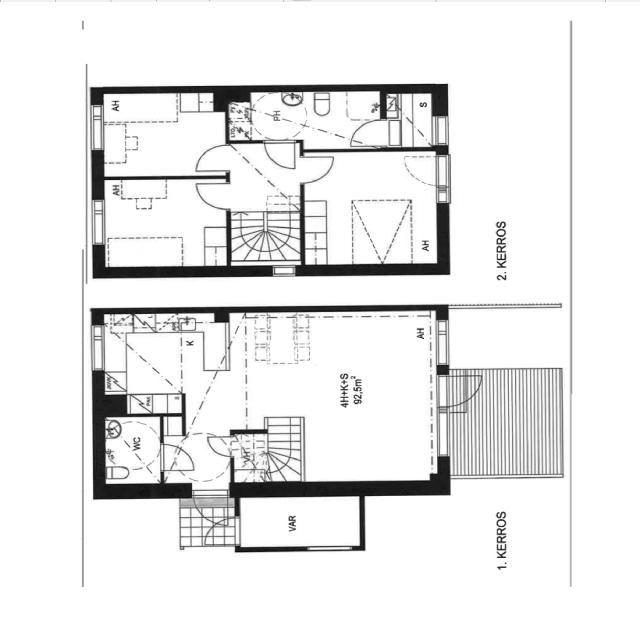door: (104, 175, 232, 267), (190, 144, 232, 210), (433, 370, 484, 410), (188, 141, 234, 174), (156, 440, 198, 476), (191, 180, 233, 212), (403, 152, 441, 187), (297, 152, 338, 184), (260, 139, 300, 170), (350, 117, 388, 146), (202, 431, 235, 460)
window: (428, 384, 452, 460), (84, 100, 108, 158), (88, 321, 108, 376), (87, 196, 107, 249), (431, 318, 450, 369), (298, 541, 358, 554), (432, 112, 448, 146), (264, 264, 301, 278)
zone: (228, 308, 441, 487), (302, 149, 436, 267), (99, 315, 229, 415), (99, 178, 228, 272), (98, 91, 225, 178), (224, 90, 385, 147), (234, 492, 365, 549), (102, 415, 161, 487), (382, 90, 440, 148)
